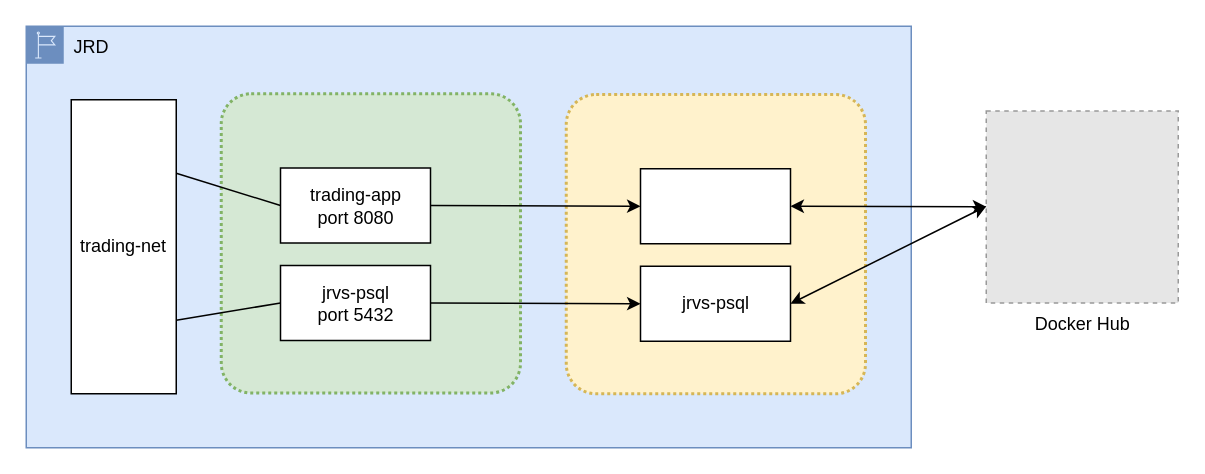
This 1205x474 diagram has some shape labels left out. Grey dashed boxes stand in for pictures. The shapes that lost their labels are listed below. From the top down, each one's box as (x1, y1, x2, y2) in pixels, then its label:
(639, 167, 790, 244): trading-app
(219, 92, 521, 394): Containers
(564, 92, 866, 394): Images
